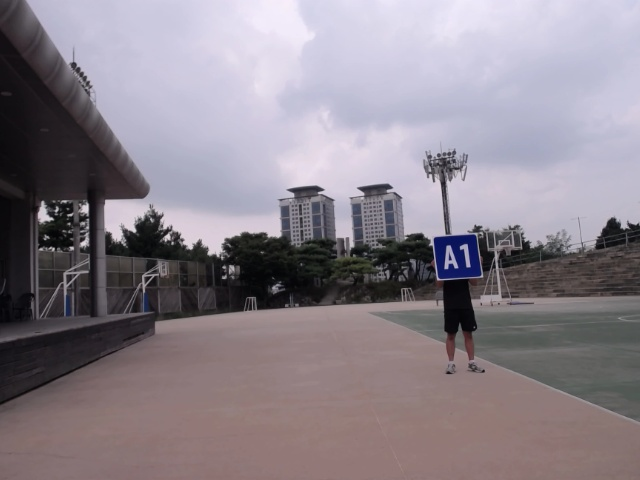delivery_a1: (433, 234, 483, 280)
